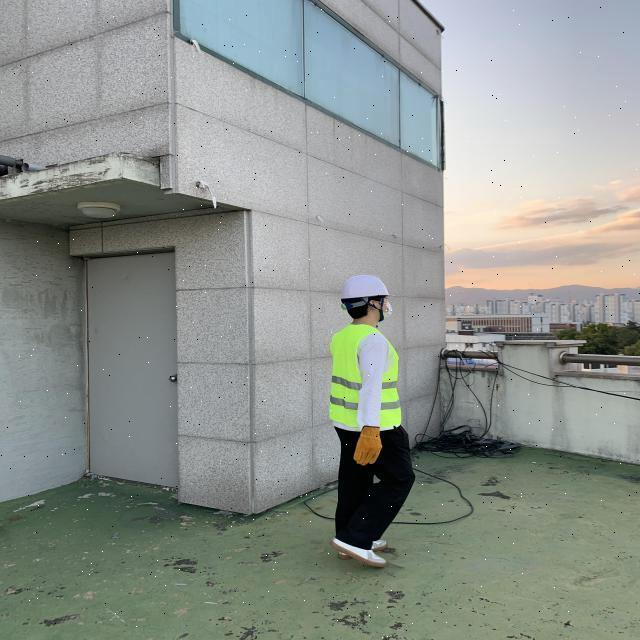Hard_hat: (333, 273, 395, 306)
Person: (312, 269, 425, 573)
Vest: (324, 321, 404, 430)
